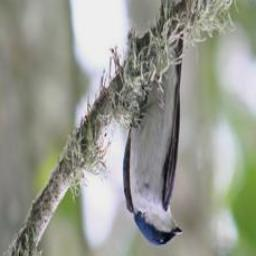Swallow: (122, 0, 191, 251)
